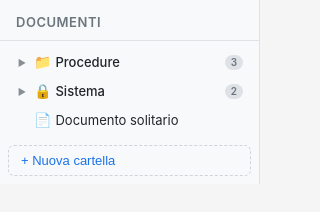
Test: DocumentTree � Creazione cartella › mostra input dopo click "Nuova cartella"
Click the button "+ Nuova cartella".
click(130, 160)  # box [8, 145, 251, 176]
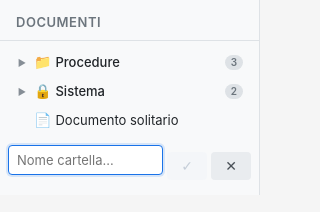
Now the field with placeholder "Nome cartella…" is shown, box [8, 145, 163, 175]
